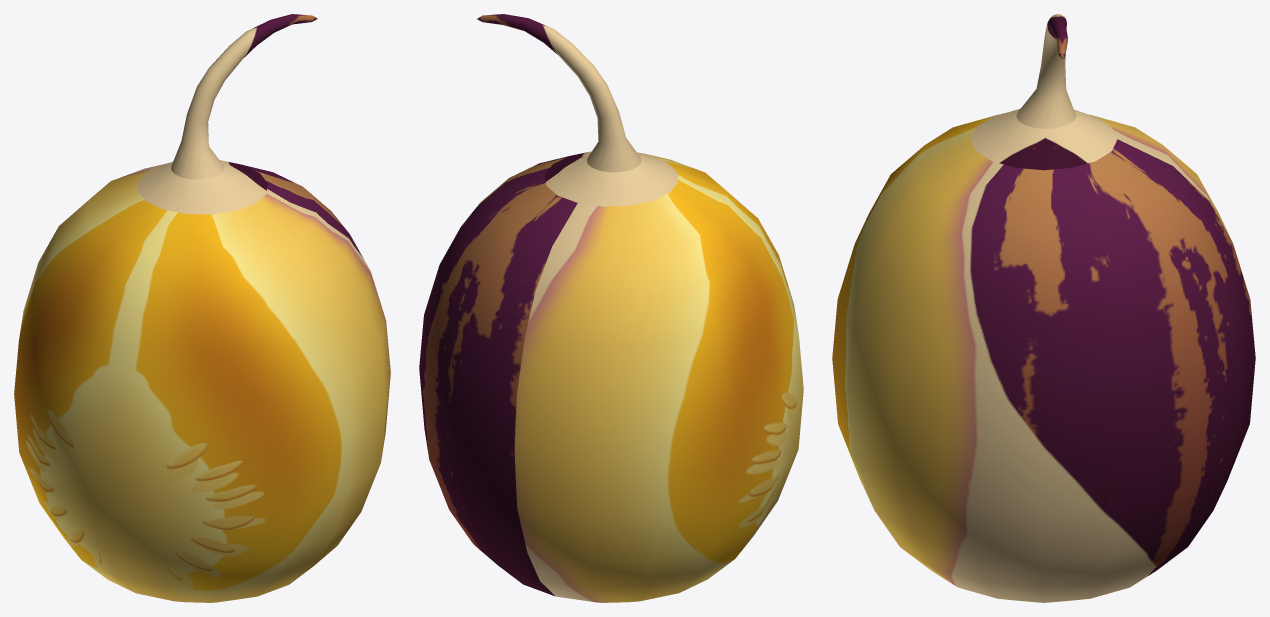
File: Tamarillo.fbx
3 renders of one model, left to right at view 1: azimuth 30°, elevation 25°; view 2: azimuth 150°, elevation 25°; view 3: azimuth 270°, elevation 25°, orthographic. The views are drawn at different scales.
Parts seen in each view (by area): view 1: Tamarillo; view 2: Tamarillo; view 3: Tamarillo.
Part boxes in pixels (bbox=[...]): Tamarillo: bbox=[14, 14, 390, 602]; Tamarillo: bbox=[419, 14, 803, 602]; Tamarillo: bbox=[832, 14, 1255, 602].
Bounding box in the file's own units: 29.61 × 46.86 × 29.61.
